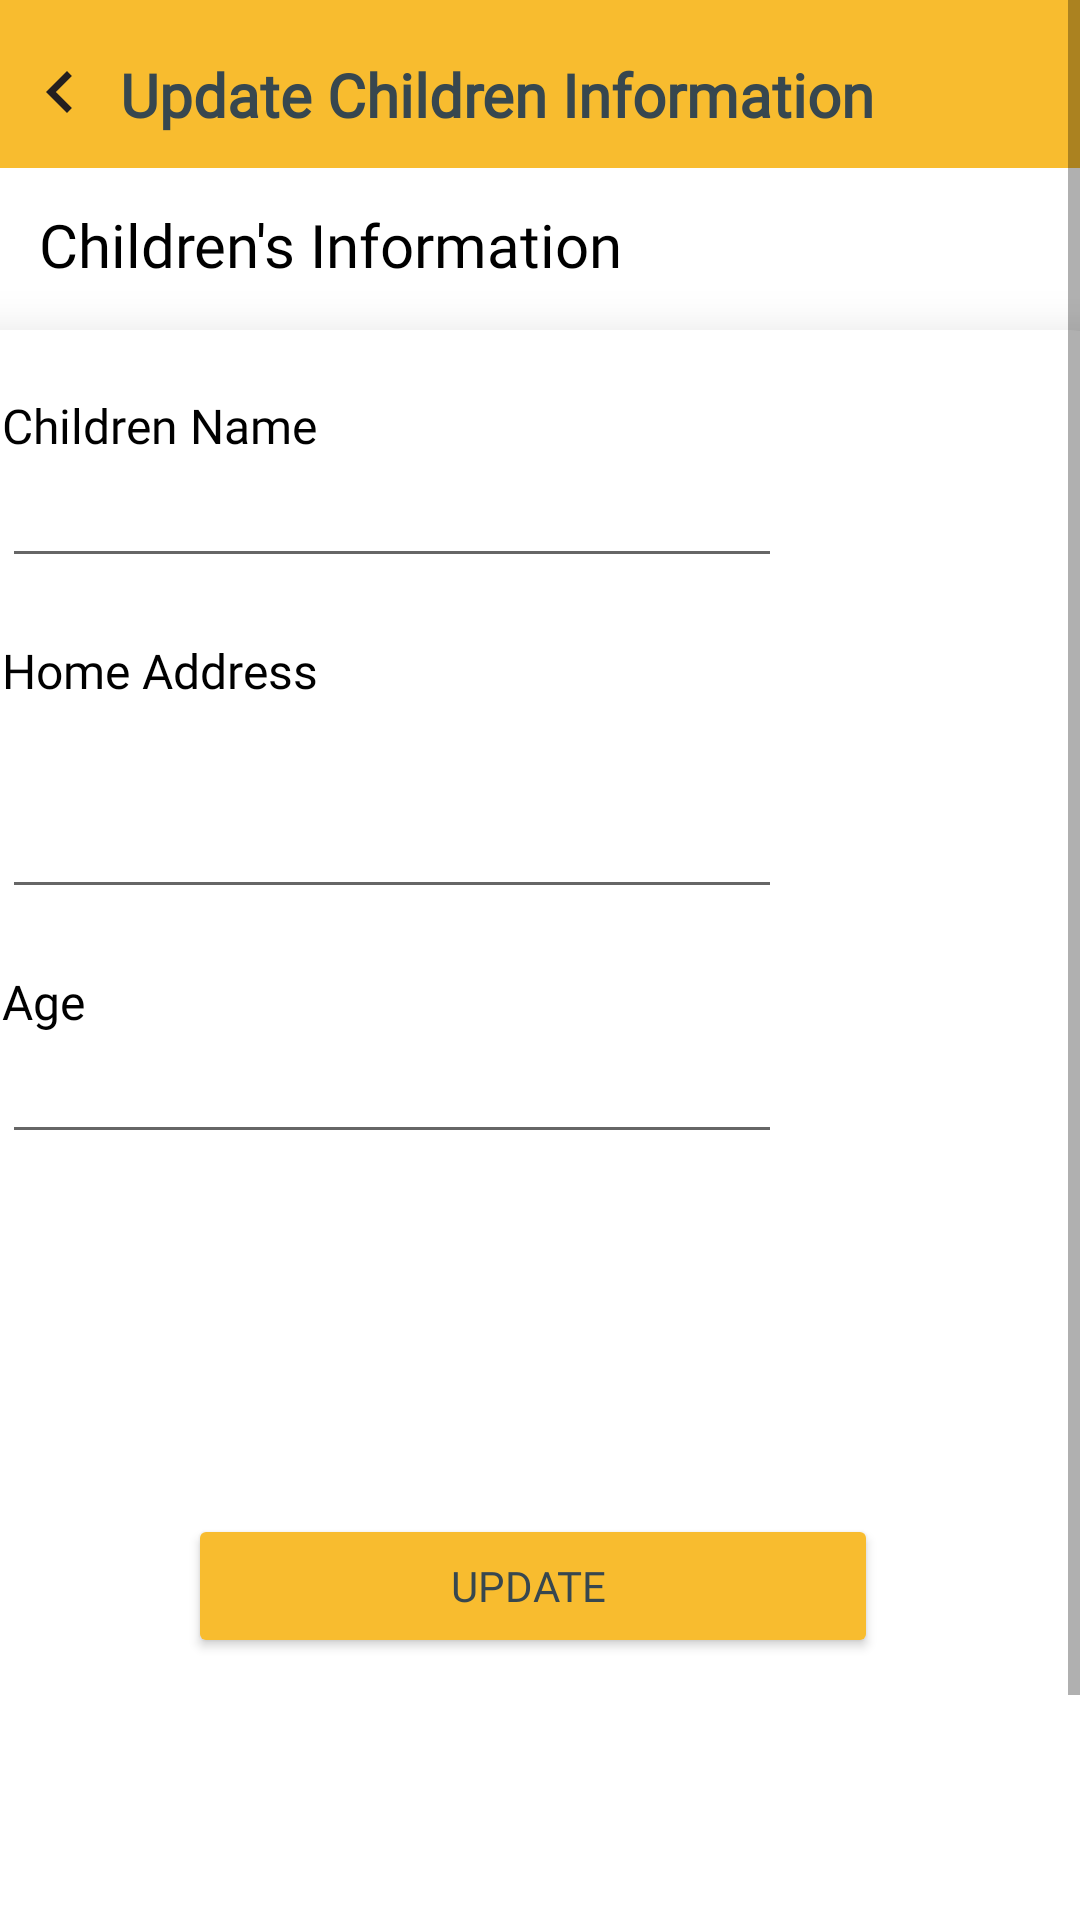

Icons on this 1080 x 1920 Android screen, each with its box as (x1, y1, x2, y2):
chevron left: (46, 71, 72, 113)
